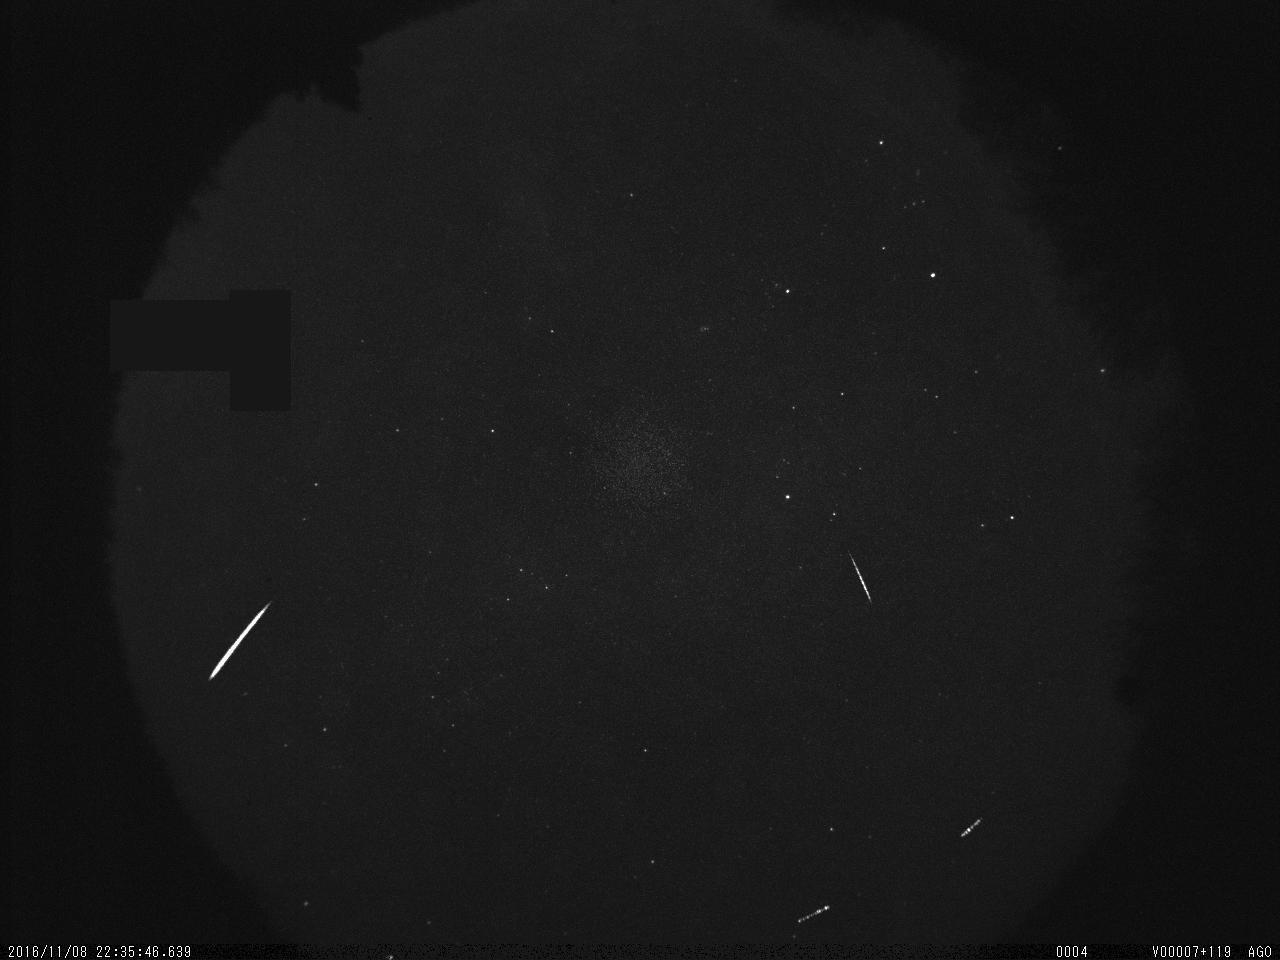meteor: (198, 587, 295, 692), (840, 541, 879, 607)
satelite: (789, 899, 840, 932), (956, 809, 986, 845)
